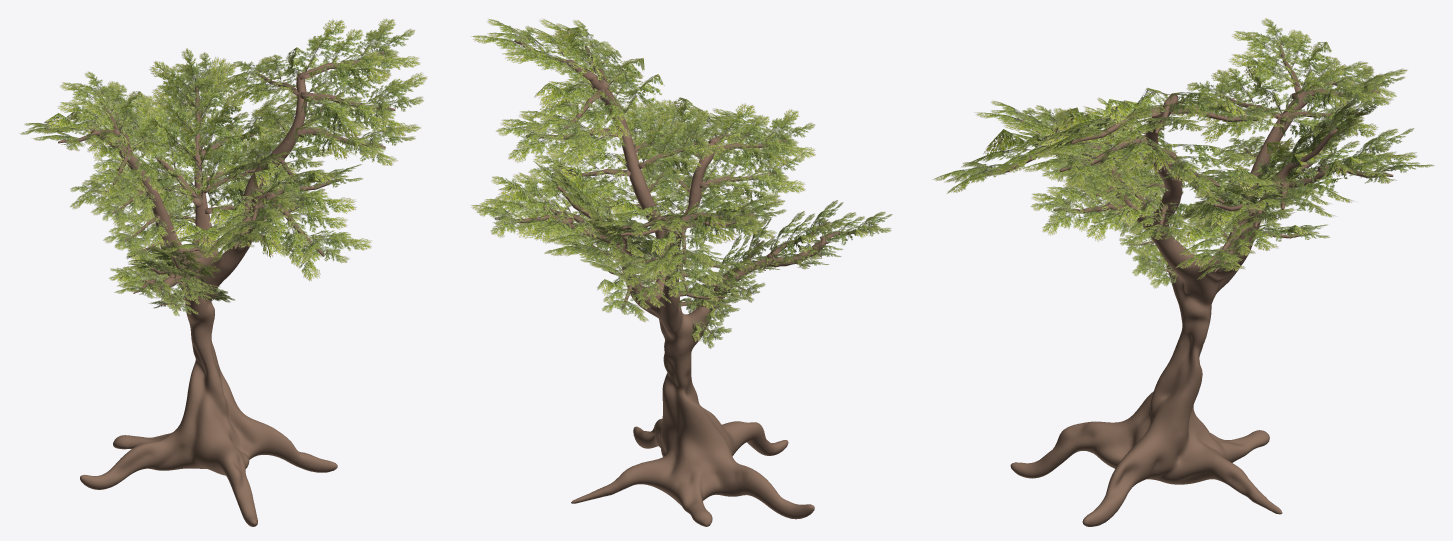
File: streecomplete.glb
The picture shows the model from 3 angles, left to right: view 1: azimuth 30°, elevation 25°; view 2: azimuth 150°, elevation 25°; view 3: azimuth 270°, elevation 25°; orthographic projection. The views are drawn at different scales.
Parts seen in each view (by area): view 1: Cube.006; view 2: Cube.006; view 3: Cube.006.
Part boxes in pixels (x1,y1,x2,y2): Cube.006: (20, 18, 427, 526); Cube.006: (471, 18, 892, 526); Cube.006: (932, 18, 1434, 526).
Bounding box in the file's own units: 12.68 × 13.76 × 13.51.
Materials: 2 (1 with a texture image).
